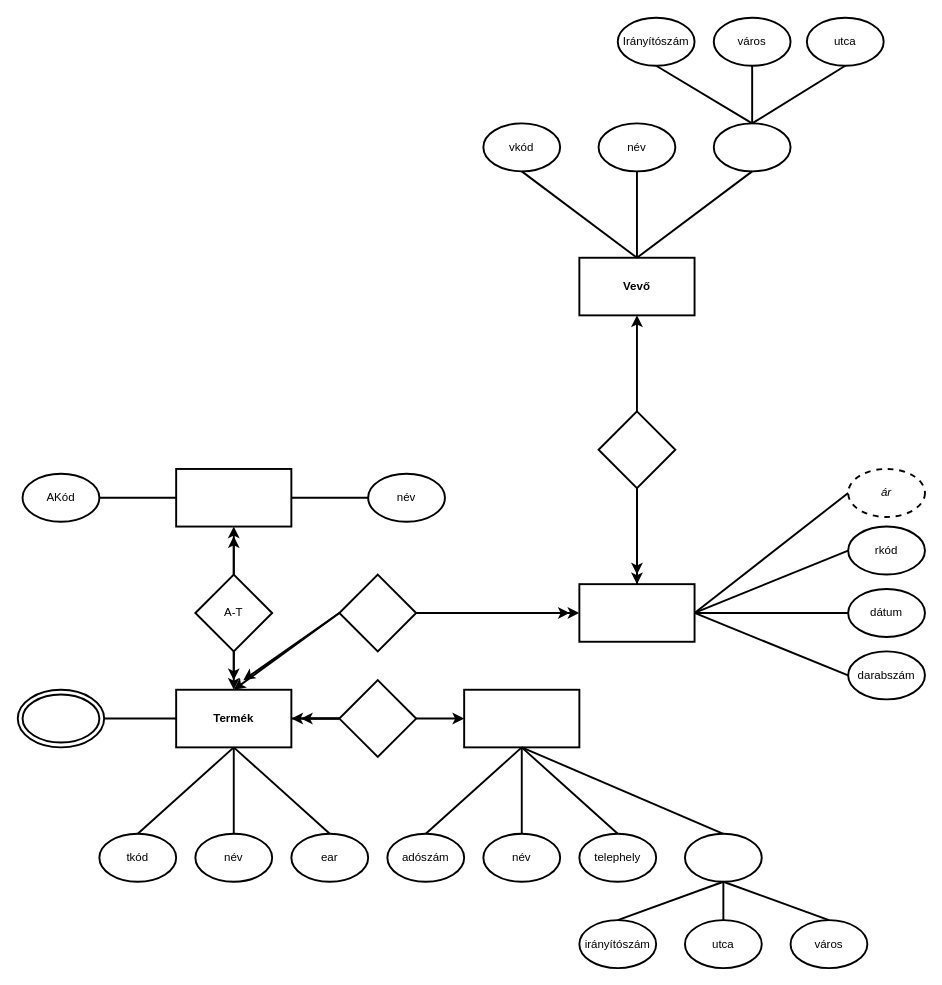
Image size: 942x985. Some labels were removed from this diagram. Each missing label, with the centre of its shape:
Alkatrész: (233,497)
egység-db: (60,718)
Gyártó: (521,718)
lakcím: (751,147)
postai cím: (723,857)
Rendelés: (636,612)
T-GY: (377,718)
T-R: (377,612)
V-R: (636,449)
